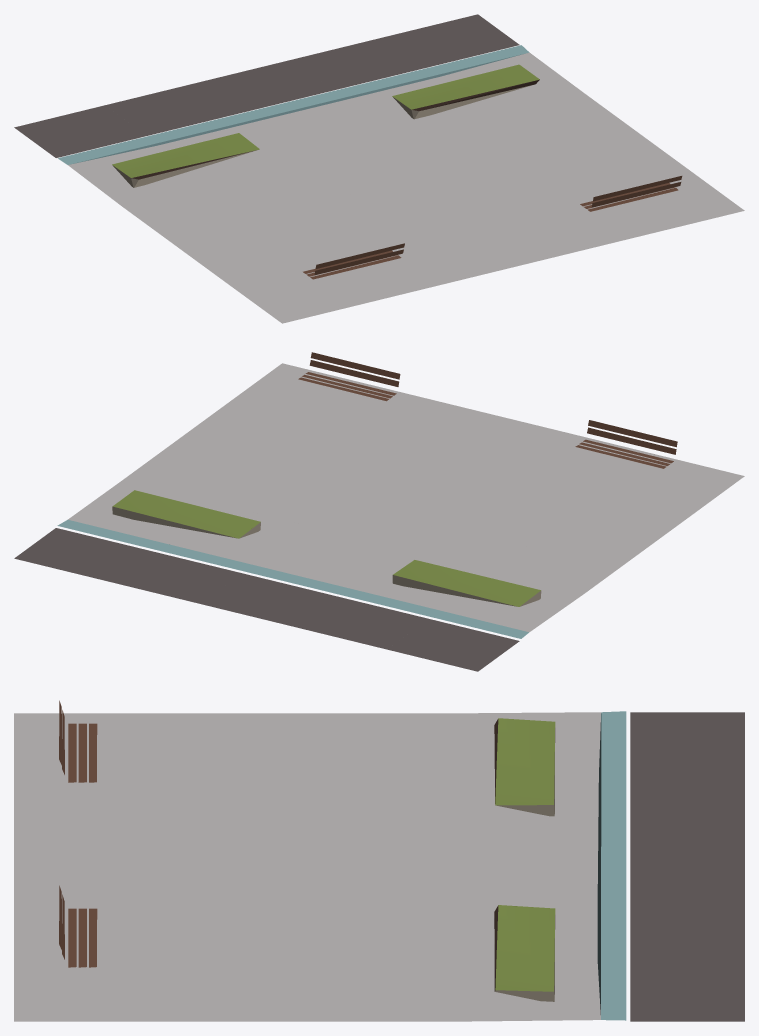
File: QmTRSvsrgQNzmRqTXKux3yBQtEkpKF34yC11gQ8k3dY1bc_lod2.fbx
3 views of the same model, one above another, from view 1: azimuth 30°, elevation 25°; view 2: azimuth 150°, elevation 25°; view 3: azimuth 270°, elevation 25° (orthographic). The views are drawn at different scales.
Visible parts, largest first — view 1: Entity_512; view 2: Entity_512; view 3: Entity_512.
Part boxes in pixels (bbox=[...]): Entity_512: bbox=[14, 14, 744, 323]; Entity_512: bbox=[14, 352, 744, 671]; Entity_512: bbox=[14, 700, 744, 1021].
Size of the model in its own units: 15930 by 1157 by 15907.
Materials: 1 (1 with a texture image).
